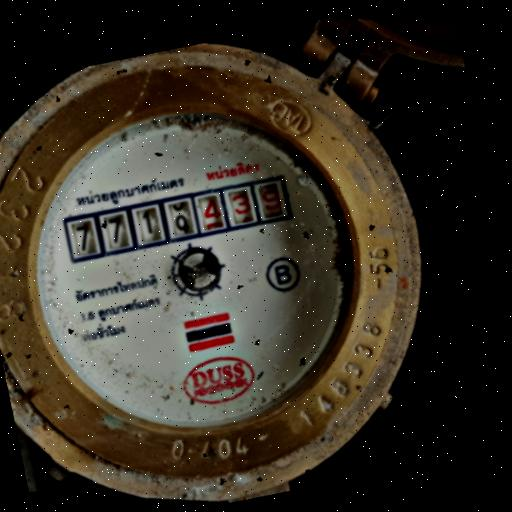1: (135, 206, 164, 245)
3: (228, 188, 255, 225)
4: (197, 194, 225, 232)
7: (102, 214, 132, 251), (70, 220, 99, 258)
8: (168, 200, 195, 238)
9: (257, 182, 285, 220)
border_water_meter_number: (62, 164, 295, 272)
